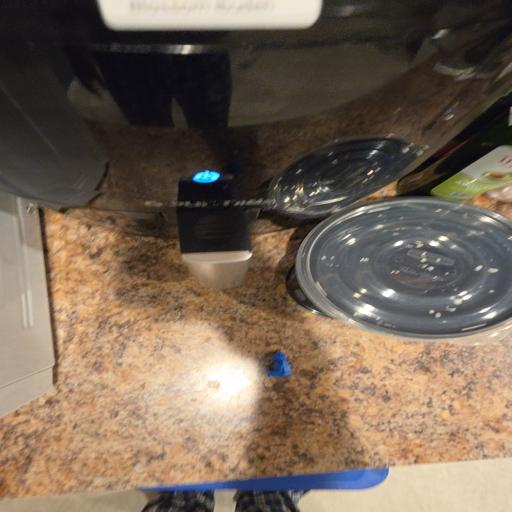Blue: (267, 351, 291, 377)
